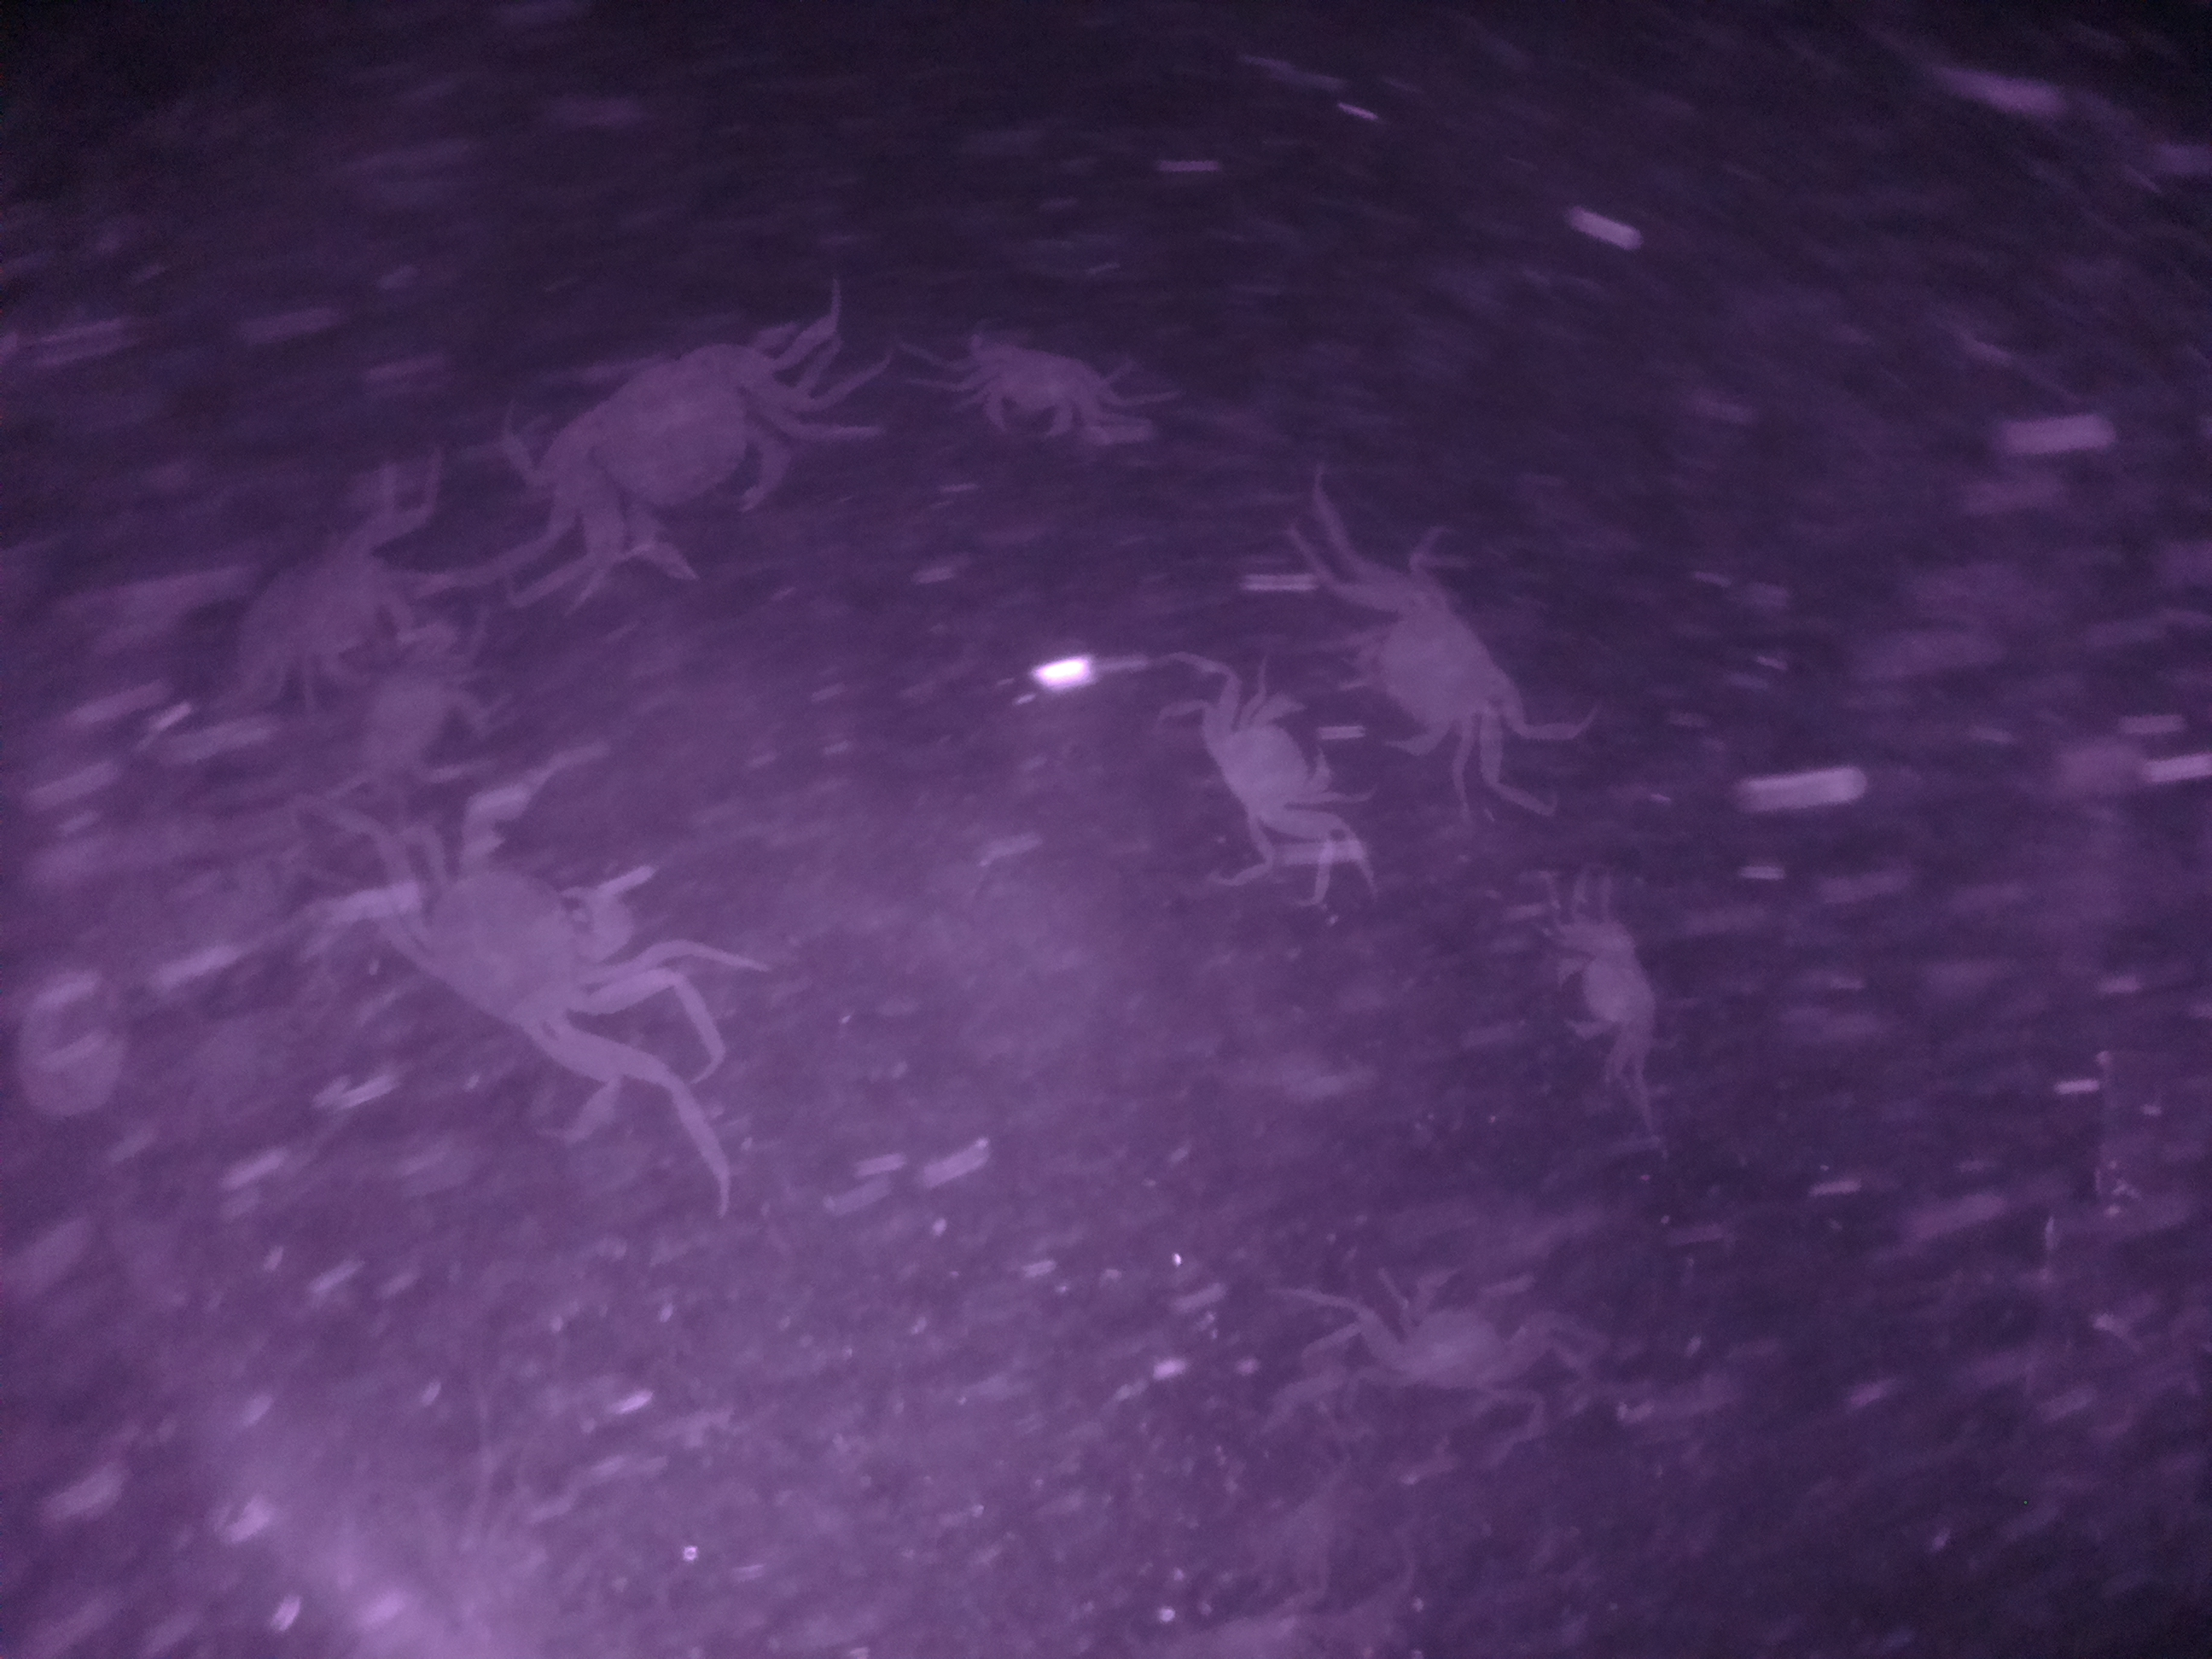Crab: (416, 762, 665, 1096), (554, 326, 834, 592), (1329, 558, 1564, 781), (1367, 1243, 1554, 1429), (1177, 671, 1341, 861), (941, 317, 1143, 469), (1541, 917, 1670, 1065)
